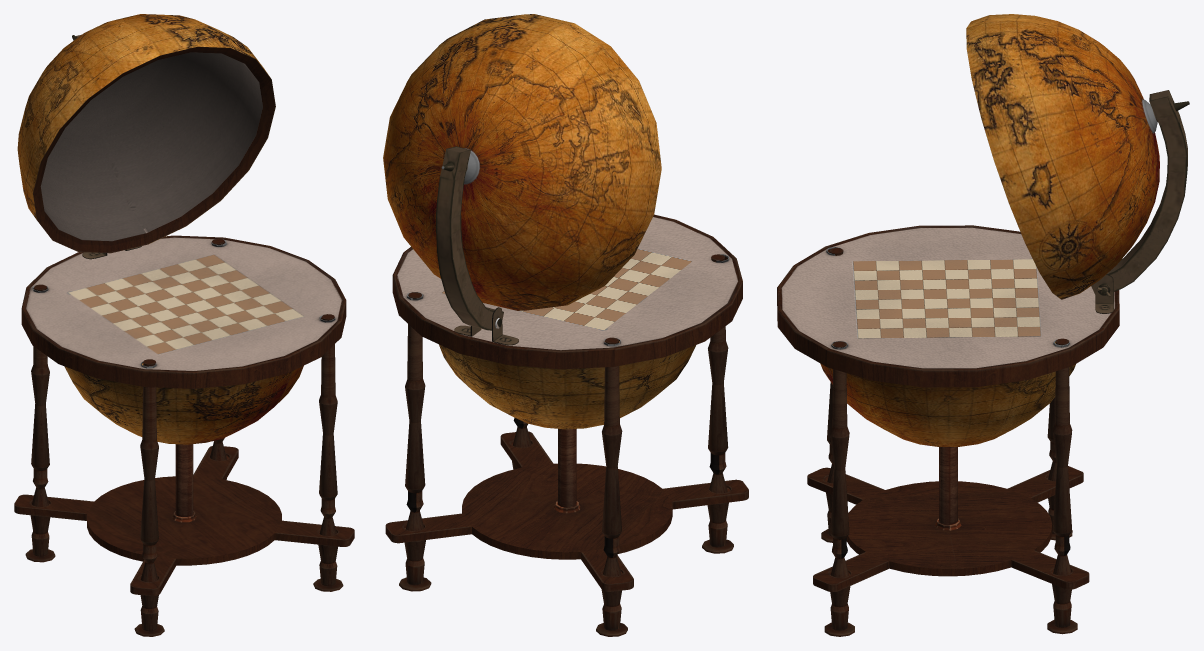
The model's file is obj_globe_53cce8.glb.
3 renders of one model, left to right at view 1: azimuth 30°, elevation 25°; view 2: azimuth 150°, elevation 25°; view 3: azimuth 270°, elevation 25°, orthographic. The views are drawn at different scales.
Parts seen in each view (by area): view 1: obj_globe_53cce8; view 2: obj_globe_53cce8; view 3: obj_globe_53cce8.
Boxes of the visible parts, left/top/right/bottom form: obj_globe_53cce8: left=14, top=14, right=354, bottom=636; obj_globe_53cce8: left=383, top=14, right=748, bottom=636; obj_globe_53cce8: left=777, top=14, right=1189, bottom=636.
Size of the model in its own units: 0.3363 by 0.6 by 0.4053.
Materials: 1 (1 with a texture image).
